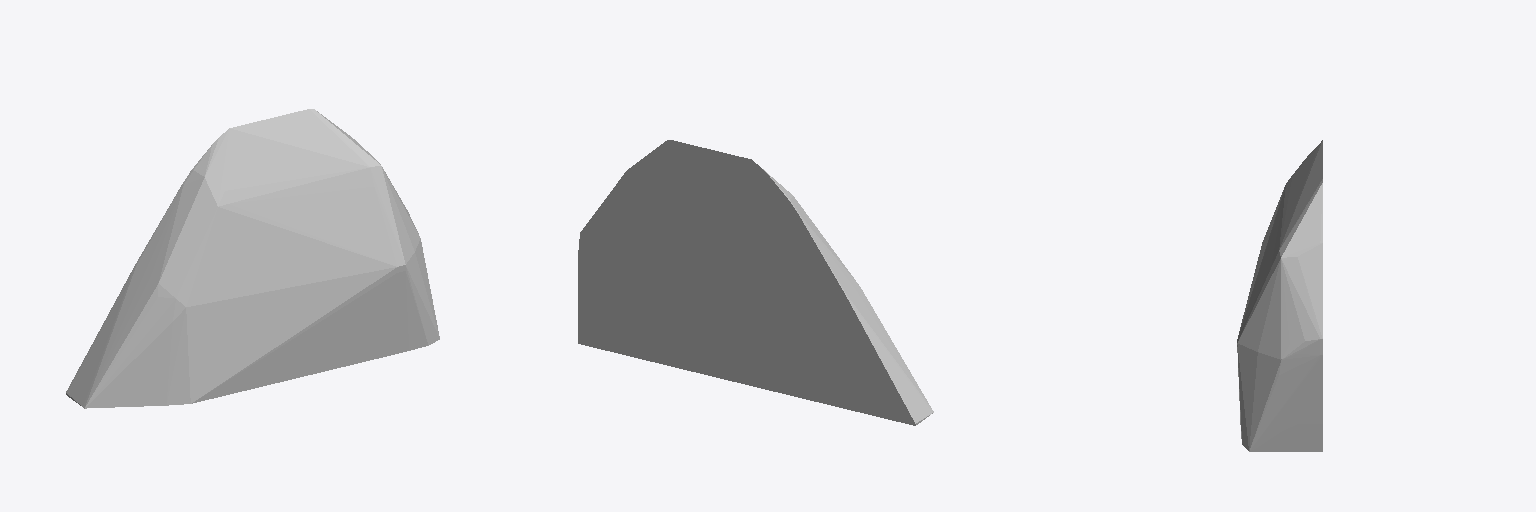
Rendered from ShipScene_collision_42.obj.
3 renders of one model, left to right at view 1: azimuth 30°, elevation 25°; view 2: azimuth 150°, elevation 25°; view 3: azimuth 270°, elevation 25°, orthographic.
Size of the model in its own units: 86.47 by 55.47 by 18.92.